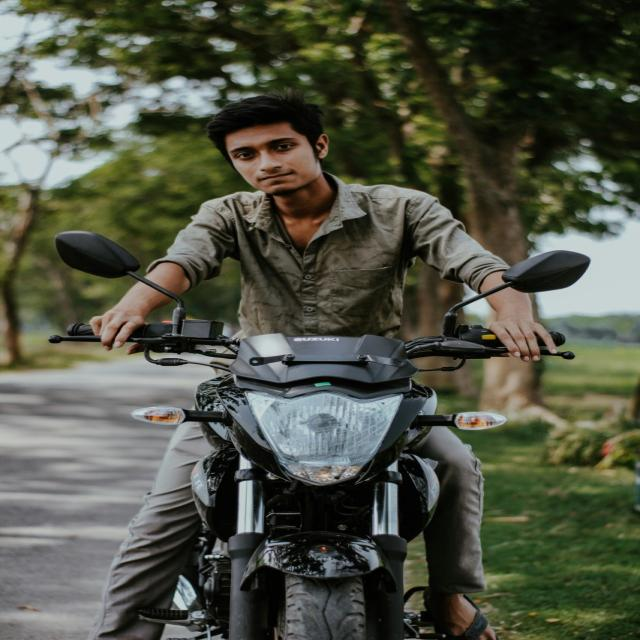Face and Hair: (194, 89, 341, 206)
